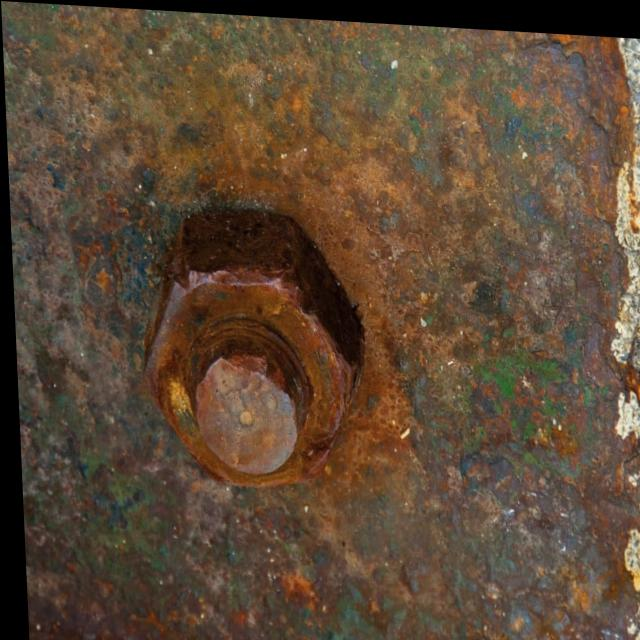Rusty bolt: (135, 206, 369, 495)
